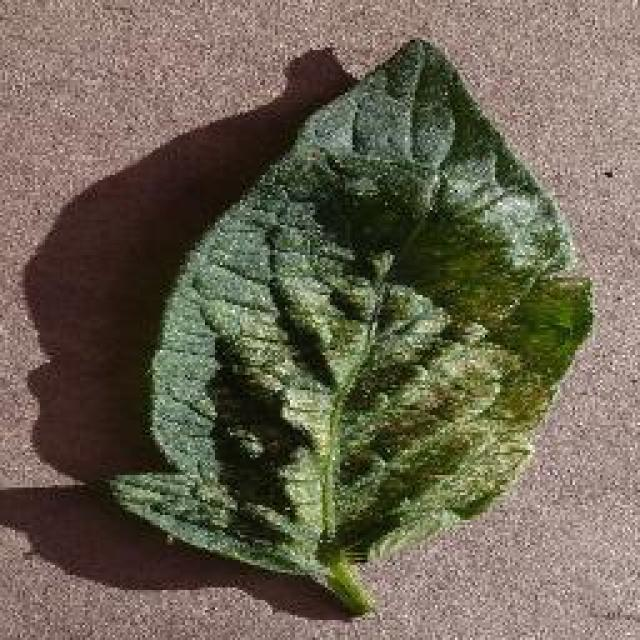Tomato mosaic virus leaf: (89, 32, 604, 612)
